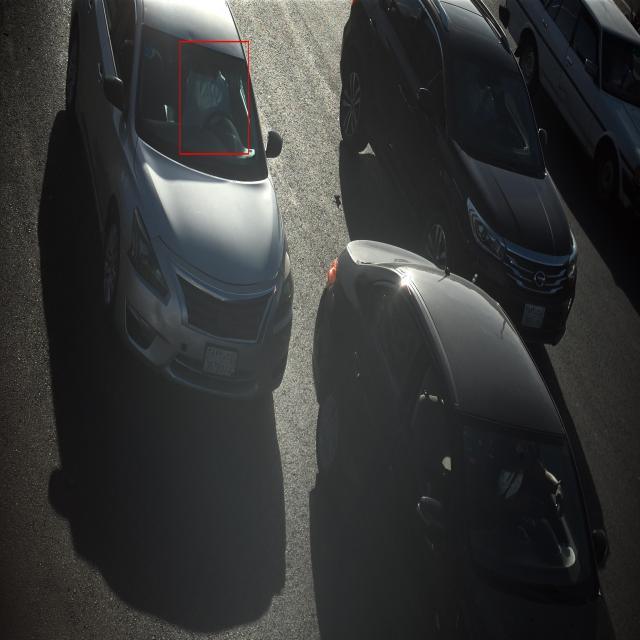windshield: (457, 411, 596, 595), (128, 20, 272, 191), (444, 39, 546, 182)
